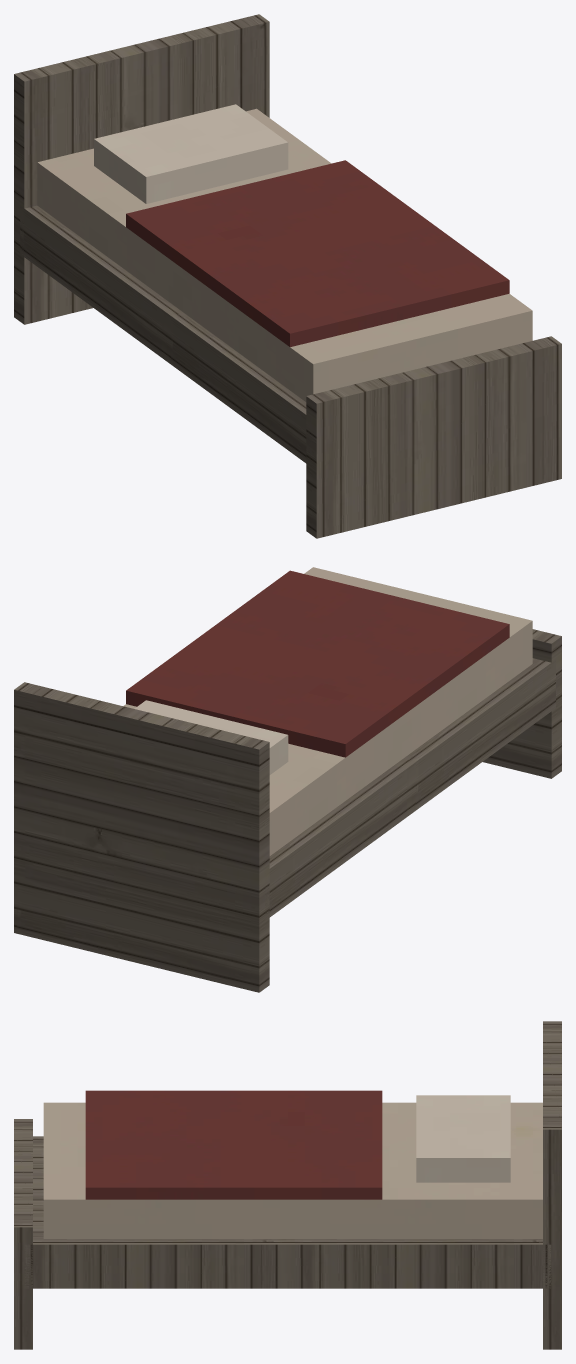
The model's file is bed_wood_01.glb.
The picture shows the model from 3 angles, top to bottom: view 1: azimuth 30°, elevation 25°; view 2: azimuth 150°, elevation 25°; view 3: azimuth 270°, elevation 25°; orthographic projection. The views are drawn at different scales.
Parts seen in each view (by area): view 1: bed_wood_01; view 2: bed_wood_01; view 3: bed_wood_01.
Boxes of the visible parts, x1=… form: bed_wood_01: x1=14, y1=14, x2=561, y2=538; bed_wood_01: x1=14, y1=567, x2=561, y2=992; bed_wood_01: x1=14, y1=1021, x2=561, y2=1349.
Bounding box in the file's own units: 0.9499 × 0.8999 × 2.03.
4 materials, 4 textured.
